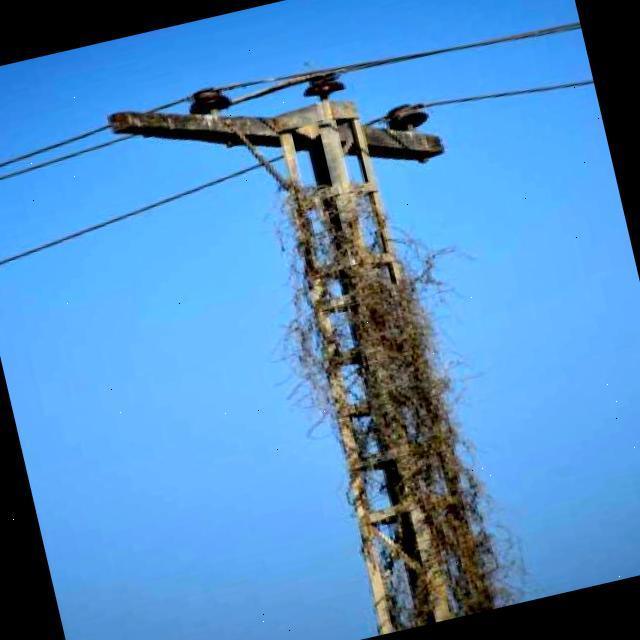critical vegetation: (114, 1, 545, 640), (256, 134, 522, 630)
